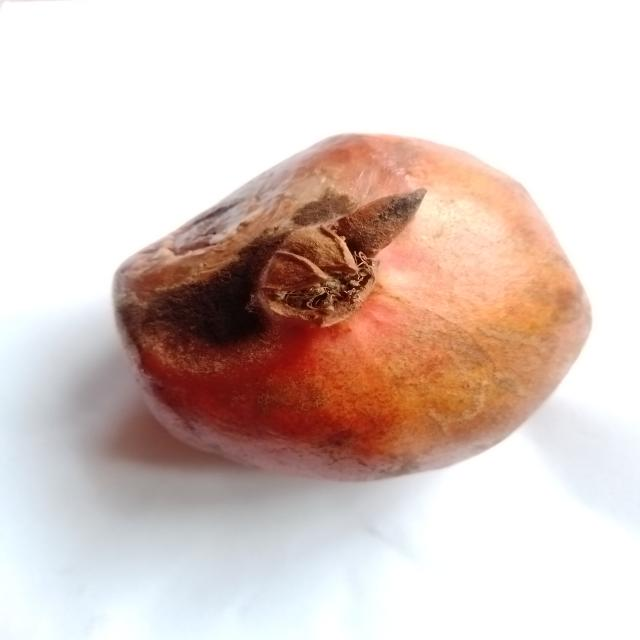Rotten: (105, 125, 592, 486)
